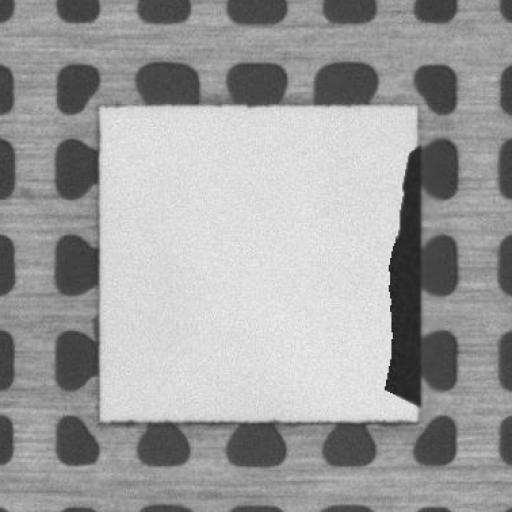DIE_BROKEN: (383, 139, 423, 405)
